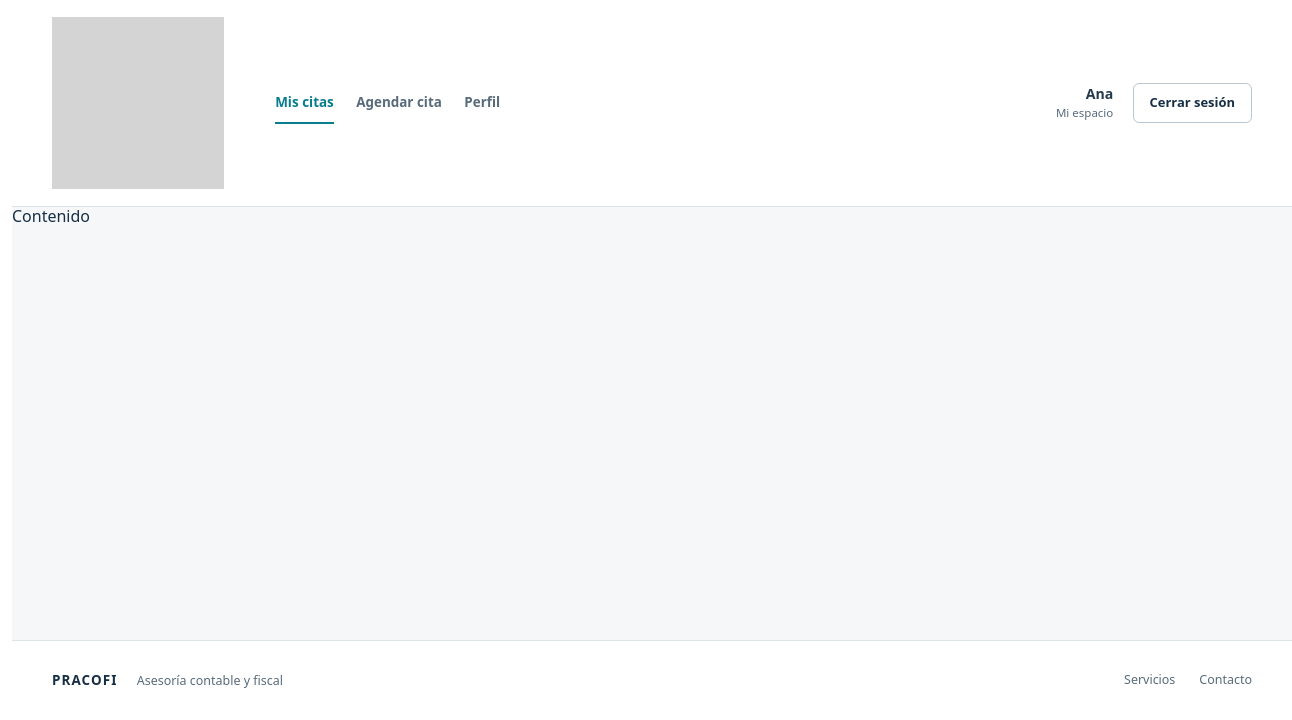
AppShell navigation › provides the supported USER links and clears the session on logout
Check: the link "Mis citas" is shown, box x1=275 y1=84 x2=334 y2=122
Check: the link "Agendar cita" is shown, box x1=356 y1=93 x2=442 y2=111
Click the button "Cerrar sesión" at (1192, 103), box x1=1132 y1=83 x2=1252 y2=123
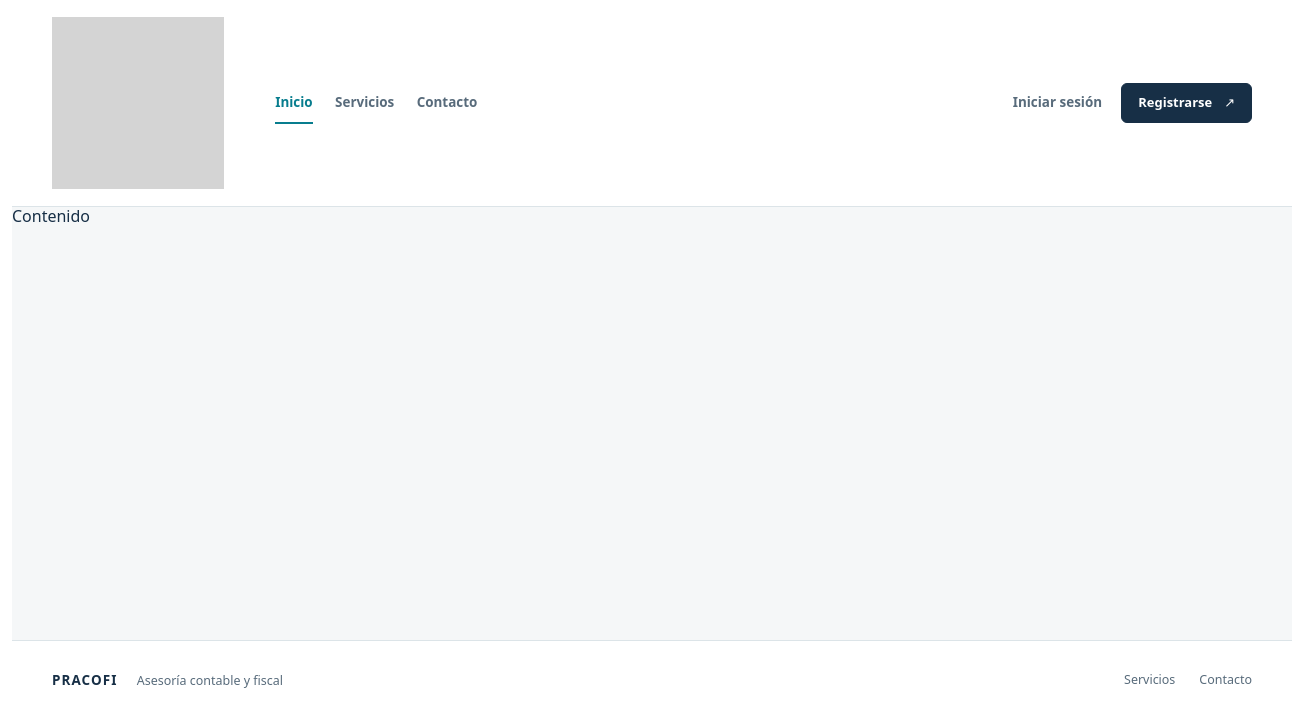
Check: the link "Iniciar sesión" is shown, box x1=1013 y1=93 x2=1102 y2=111
